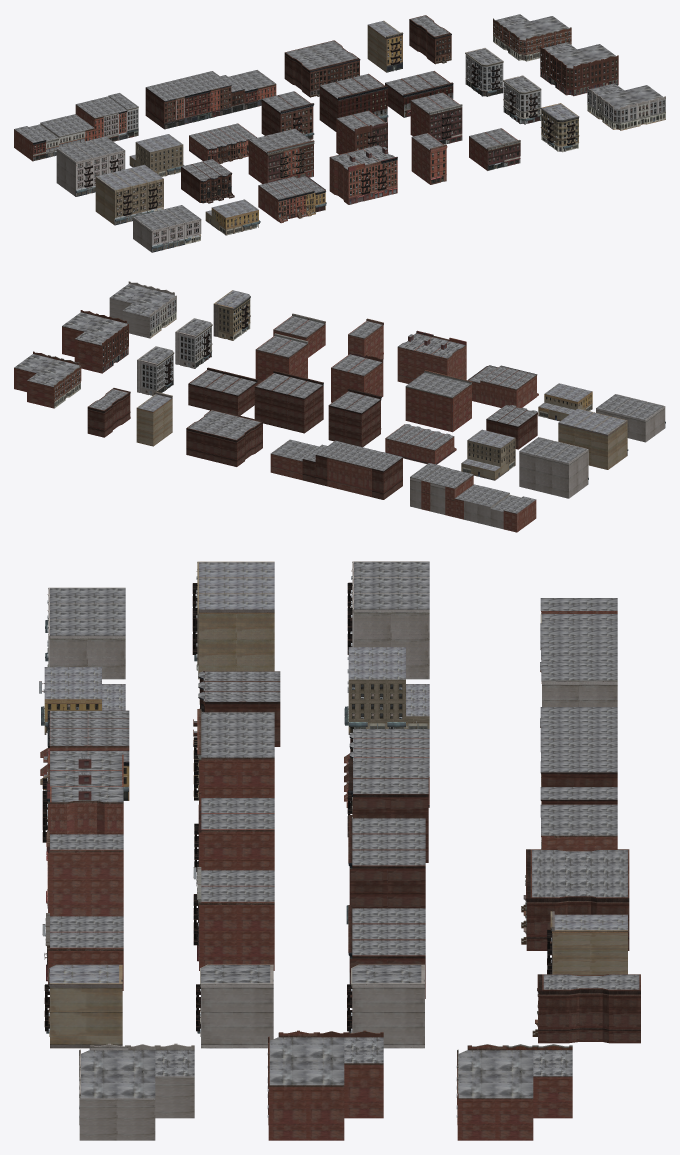
The model's file is brownstone_building_set_-_low_poly_model.glb.
3 renders of one model, top to bottom at view 1: azimuth 30°, elevation 25°; view 2: azimuth 150°, elevation 25°; view 3: azimuth 270°, elevation 25°, orthographic. The views are drawn at different scales.
Visible parts, largest first — view 1: Brownstone_FlatFacade_9_C, Brownstone_FlatFacade_9, Brownstone_Harlem_1_B, Brownstone_Lowrise_1_B_Brownstone_Facade_Flr_3_0, Brownstone_FlatFacadeComplex_1_Brownstone_Facade_Flr_2_0, Brownstone_FlatFacade_2_Brownstone_Facade_Flr_3_0, Brownstone_FlatFacade_1_Brownstone_Facade_Flr_2_0, Brownstone_FlatFacade_6_Brownstone_Facade_Flr_1_0, Brownstone_FlatFacade_9_B, Brownstone_FlatFacadeComplex_2_Brownstone_Facade_Flr_4_0, Brownstone_Lowrise_1_C_Brownstone_Facade_Flr_4_0, Brownstone_Lowrise_1_Brownstone_Facade_Flr_3_0 (+28 smaller); view 2: Brownstone_FlatFacade_6_Brownstone_Facade_Flr_1_0, Brownstone_FlatFacade_9, Brownstone_FlatFacadeComplex_1_Brownstone_Facade_Flr_2_0, Brownstone_Harlem_1_B, Brownstone_FlatFacade_2_Brownstone_Facade_Flr_3_0, Brownstone_Lowrise_1_B_Brownstone_Facade_Flr_3_0, Brownstone_FlatFacade_9_C, Brownstone_FlatFacadeComplex_2_Brownstone_Facade_Flr_4_0, Brownstone_FlatFacade_1_Brownstone_Facade_Flr_2_0, Brownstone_Lowrise_1_Brownstone_Facade_Flr_3_0, Brownstone_Lowrise_1_C_Brownstone_Facade_Flr_4_0, Brownstone_FlatFacade_3_Brownstone_Facade_Flr_1_0 (+18 smaller); view 3: Brownstone_Lowrise_1_B_Brownstone_Facade_Flr_3_0, Brownstone_Lowrise_1_C_Brownstone_Facade_Flr_4_0, Brownstone_Lowrise_1_Brownstone_Facade_Flr_3_0, Brownstone_FlatFacade_9_C, Brownstone_Harlem_1_B, Brownstone_FlatFacade_9, Brownstone_FlatFacade_7_Brownstone_Facade_Flr_3_Dif_0, Brownstone_Harlem_1, Brownstone_FlatFacade_6_Brownstone_Facade_Flr_1_0, Brownstone_FlatFacadeComplex_1_Brownstone_Facade_Flr_2_0, Brownstone_FlatFacade_9_B, Brownstone_FlatFacade_2_Brownstone_Facade_Flr_3_0 (+18 smaller).
Part boxes in pixels (x1=…): Brownstone_FlatFacade_9_C: x1=95, y1=164, x2=163, y2=225; Brownstone_FlatFacade_9: x1=56, y1=136, x2=125, y2=196; Brownstone_Harlem_1_B: x1=284, y1=40, x2=360, y2=97; Brownstone_Lowrise_1_B_Brownstone_Facade_Flr_3_0: x1=540, y1=42, x2=618, y2=89; Brownstone_FlatFacadeComplex_1_Brownstone_Facade_Flr_2_0: x1=157, y1=70, x2=276, y2=119; Brownstone_FlatFacade_2_Brownstone_Facade_Flr_3_0: x1=248, y1=128, x2=314, y2=183; Brownstone_FlatFacade_1_Brownstone_Facade_Flr_2_0: x1=329, y1=145, x2=397, y2=204; Brownstone_FlatFacade_6_Brownstone_Facade_Flr_1_0: x1=319, y1=73, x2=387, y2=131; Brownstone_FlatFacade_9_B: x1=133, y1=205, x2=201, y2=252; Brownstone_FlatFacadeComplex_2_Brownstone_Facade_Flr_4_0: x1=29, y1=93, x2=138, y2=153; Brownstone_Lowrise_1_C_Brownstone_Facade_Flr_4_0: x1=587, y1=83, x2=665, y2=123; Brownstone_Lowrise_1_Brownstone_Facade_Flr_3_0: x1=493, y1=14, x2=571, y2=54; Brownstone_FlatFacade_6_Brownstone_Facade_Flr_1_0: x1=254, y1=370, x2=323, y2=433; Brownstone_FlatFacade_9: x1=519, y1=437, x2=588, y2=498; Brownstone_FlatFacadeComplex_1_Brownstone_Facade_Flr_2_0: x1=270, y1=439, x2=391, y2=497; Brownstone_Harlem_1_B: x1=186, y1=409, x2=262, y2=466; Brownstone_FlatFacade_2_Brownstone_Facade_Flr_3_0: x1=405, y1=370, x2=472, y2=432; Brownstone_Lowrise_1_B_Brownstone_Facade_Flr_3_0: x1=62, y1=310, x2=128, y2=373; Brownstone_FlatFacade_9_C: x1=558, y1=408, x2=628, y2=469; Brownstone_FlatFacadeComplex_2_Brownstone_Facade_Flr_4_0: x1=410, y1=463, x2=520, y2=529; Brownstone_FlatFacade_1_Brownstone_Facade_Flr_2_0: x1=397, y1=330, x2=466, y2=383; Brownstone_Lowrise_1_Brownstone_Facade_Flr_3_0: x1=14, y1=351, x2=81, y2=408; Brownstone_Lowrise_1_C_Brownstone_Facade_Flr_4_0: x1=109, y1=281, x2=176, y2=338; Brownstone_FlatFacade_3_Brownstone_Facade_Flr_1_0: x1=328, y1=388, x2=381, y2=447; Brownstone_Lowrise_1_B_Brownstone_Facade_Flr_3_0: x1=268, y1=1030, x2=383, y2=1140; Brownstone_Lowrise_1_C_Brownstone_Facade_Flr_4_0: x1=79, y1=1043, x2=194, y2=1140; Brownstone_Lowrise_1_Brownstone_Facade_Flr_3_0: x1=457, y1=1044, x2=572, y2=1140; Brownstone_FlatFacade_9_C: x1=192, y1=561, x2=274, y2=679; Brownstone_Harlem_1_B: x1=521, y1=849, x2=629, y2=950; Brownstone_FlatFacade_9: x1=347, y1=561, x2=429, y2=679; Brownstone_FlatFacade_7_Brownstone_Facade_Flr_3_Dif_0: x1=197, y1=867, x2=274, y2=970; Brownstone_Harlem_1: x1=532, y1=974, x2=640, y2=1043; Brownstone_FlatFacade_6_Brownstone_Facade_Flr_1_0: x1=348, y1=815, x2=425, y2=908; Brownstone_FlatFacadeComplex_1_Brownstone_Facade_Flr_2_0: x1=540, y1=718, x2=617, y2=850; Brownstone_FlatFacade_9_B: x1=45, y1=587, x2=125, y2=679; Brownstone_FlatFacade_2_Brownstone_Facade_Flr_3_0: x1=197, y1=709, x2=274, y2=797.
Size of the model in its own units: 319 by 22.79 by 159.
Materials: 14 (14 with a texture image).
